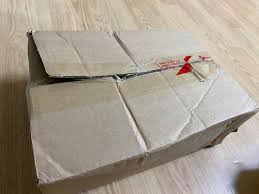damaged package: (25, 30, 257, 187)
